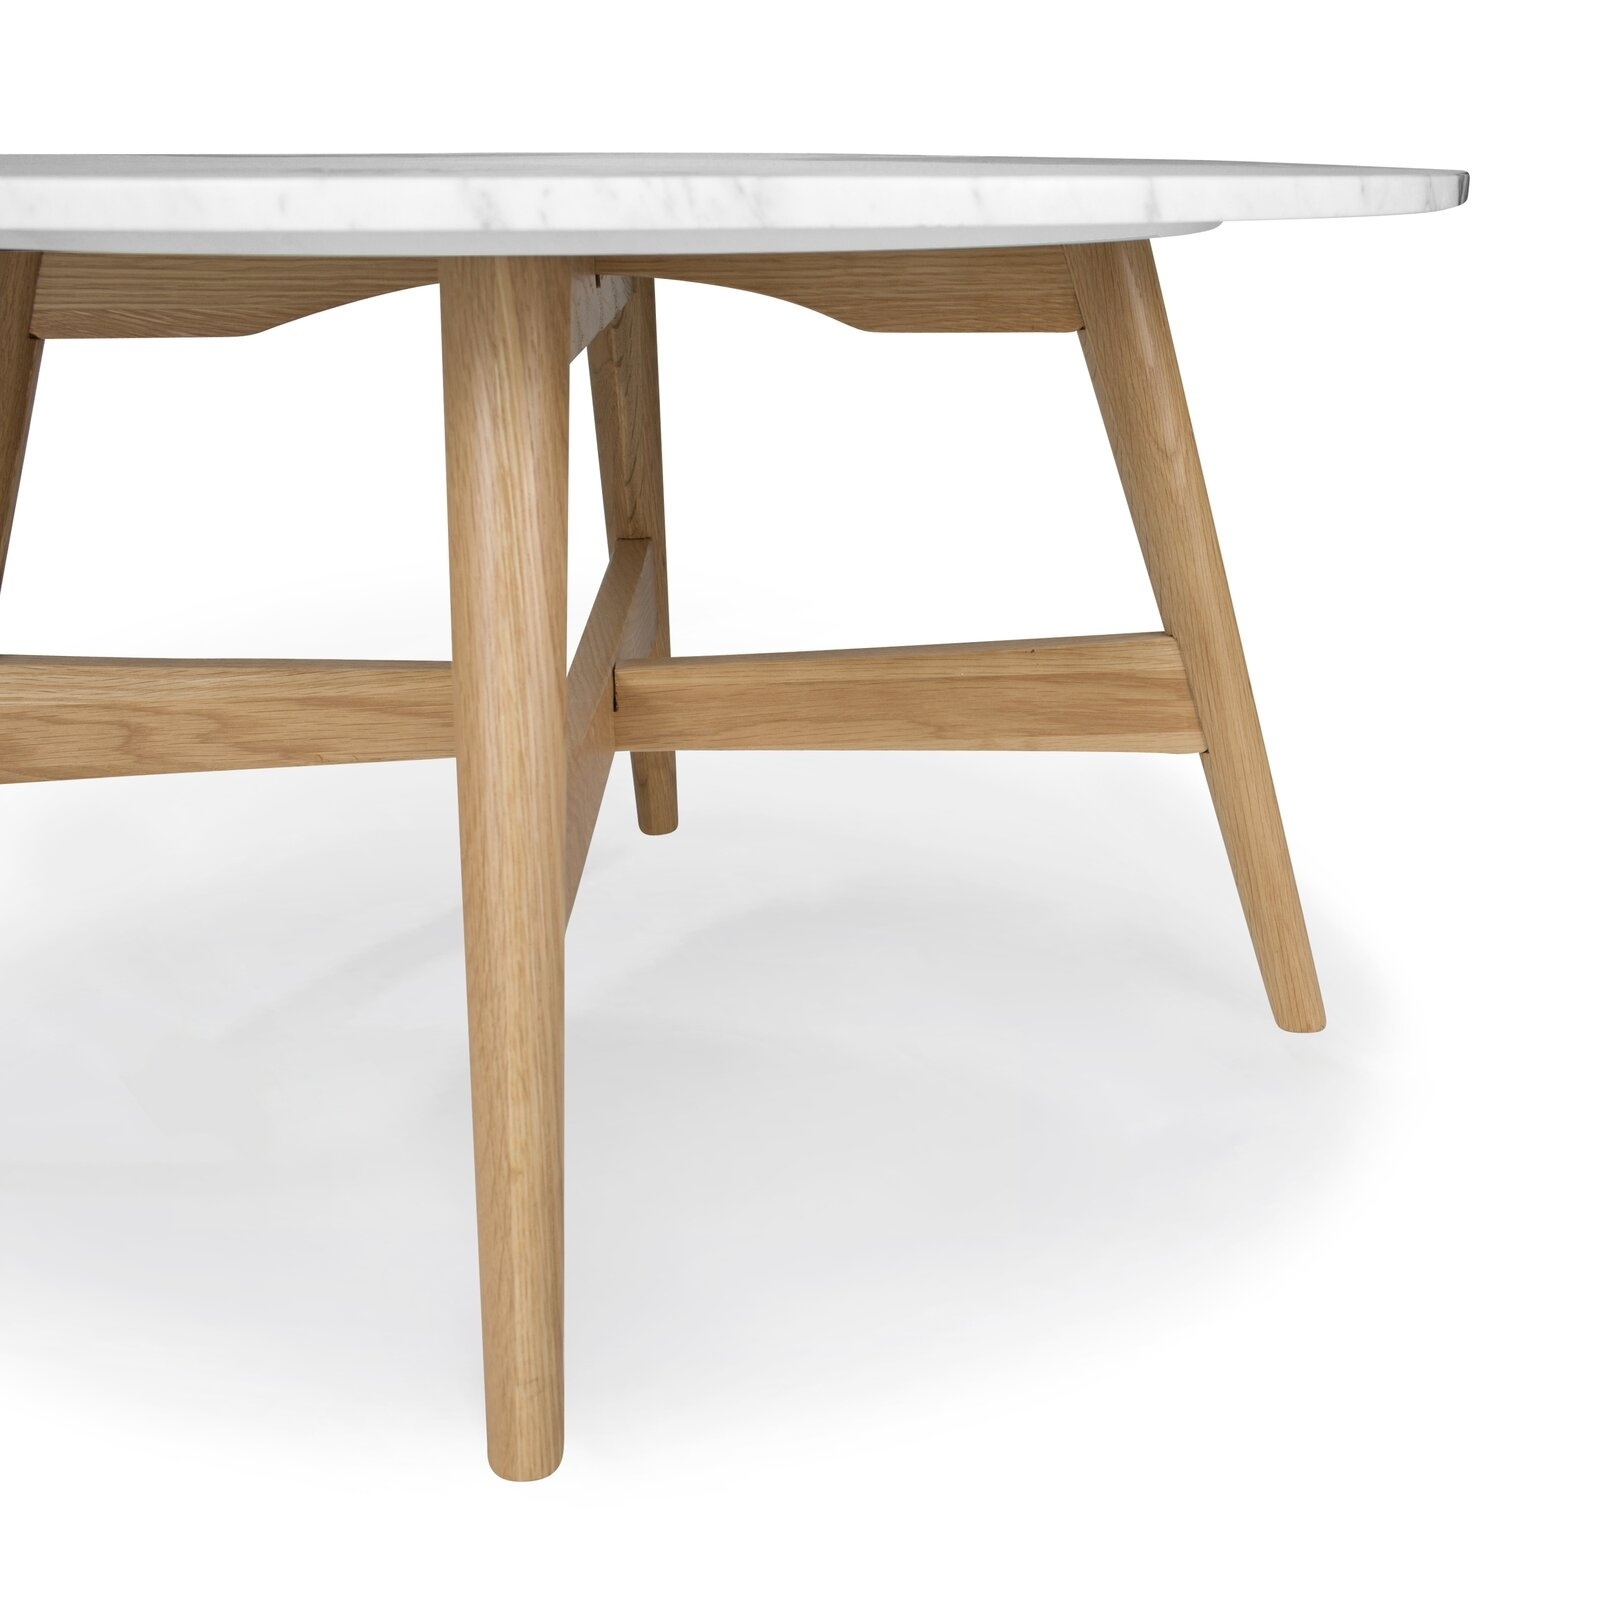obstacle: (0, 154, 1467, 1478)
